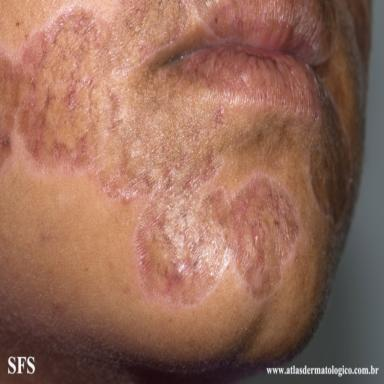Lupus-Erythematosus-Chronicus-Discoides: (0, 4, 299, 304), (311, 97, 353, 225)
